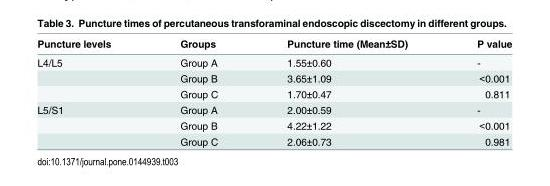table: (36, 37, 511, 146)
table column: (251, 37, 441, 146), (36, 37, 144, 146), (144, 37, 251, 146), (441, 37, 511, 146)
table column header: (36, 37, 511, 52)
table row: (36, 52, 511, 70), (36, 85, 511, 101), (36, 101, 511, 117), (36, 117, 511, 133), (36, 37, 511, 52), (36, 70, 511, 85), (36, 133, 511, 146)
table spanning cell: (36, 52, 144, 101), (36, 101, 144, 146)
